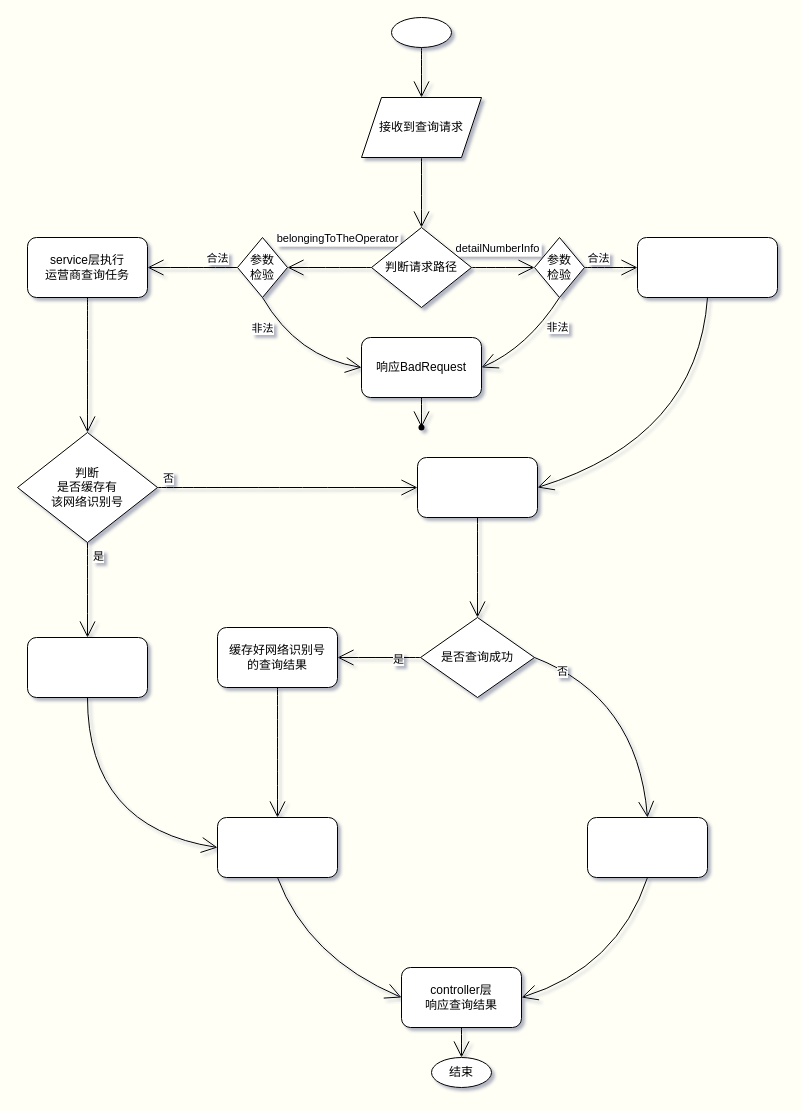
The diagram is 801 pixels wide and 1111 high, and some of its shapes have lost their labels. The shapes that lost their labels are listed below. From the top down, each one's box as (x1, y1, x2, y2) in pixels, then its label:
(390, 16, 452, 48): 开始
(636, 236, 778, 298): service层执行 详细号码信息查询任务
(416, 456, 538, 518): 调用第三方开放API 以查询
(26, 636, 148, 698): 提取缓存中的数据
(216, 816, 338, 878): service层 返回识别结果
(586, 816, 708, 878): service层 抛出异常信息
